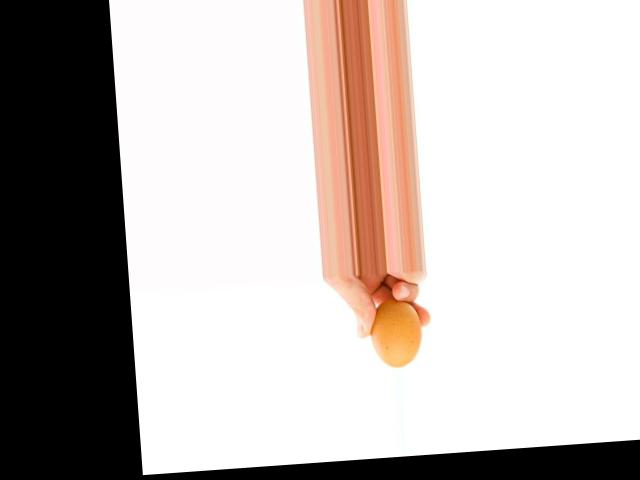egg: (368, 298, 425, 369)
